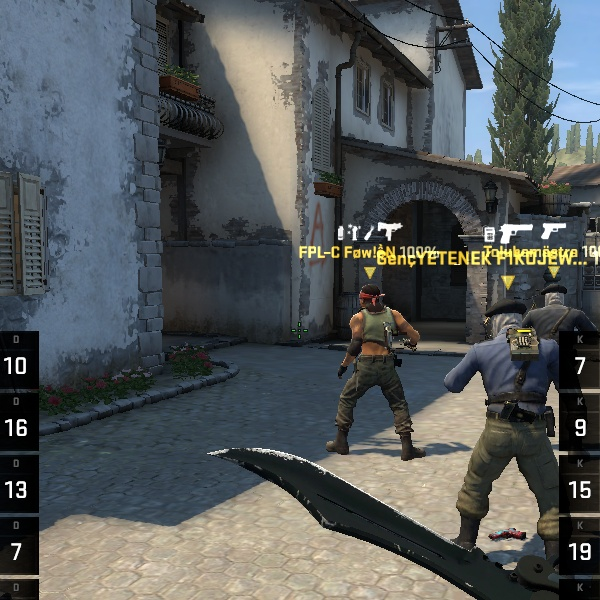t_body: (322, 281, 427, 460)
t_head: (354, 281, 389, 317)
